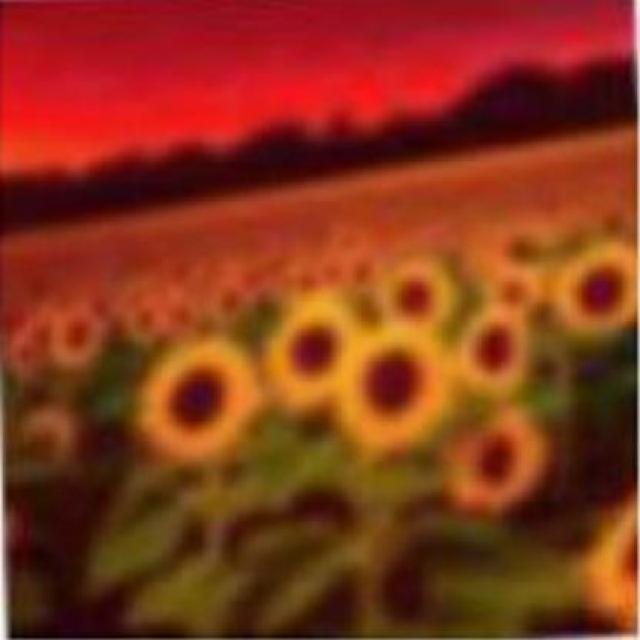sunflower: (138, 340, 258, 462), (335, 328, 447, 452)
